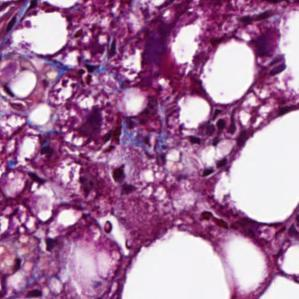inflammation: (72, 104, 123, 170), (75, 25, 123, 87)
